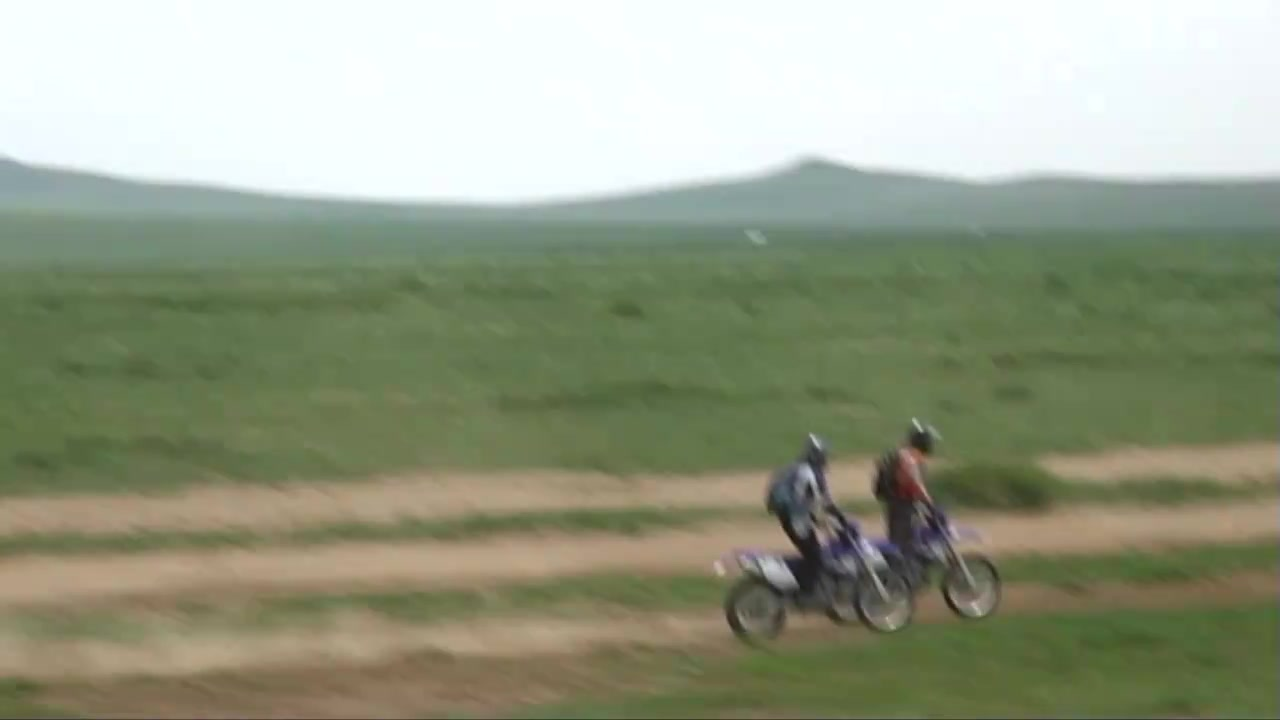motorbike: (725, 507, 920, 642), (863, 508, 1017, 627)
